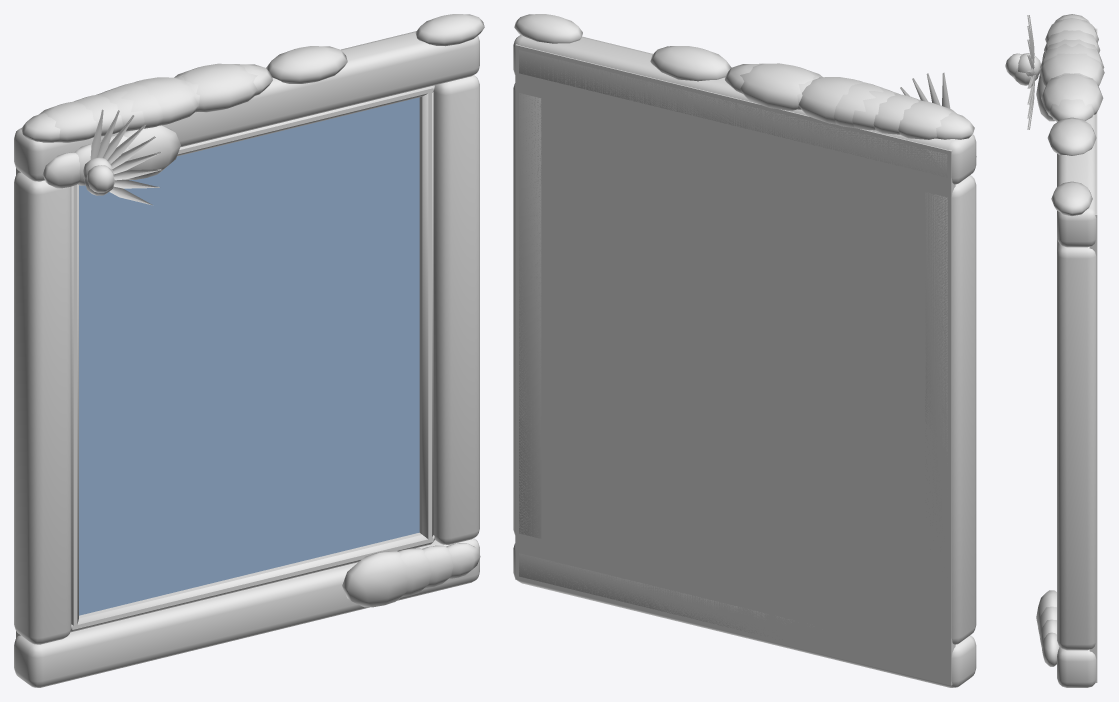
The model's file is frosted_frame.fbx.
3 views of the same model, side by side, from view 1: azimuth 30°, elevation 25°; view 2: azimuth 150°, elevation 25°; view 3: azimuth 270°, elevation 25° (orthographic). The views are drawn at different scales.
Parts seen in each view (by area): view 1: frosted_frame; view 2: frosted_frame; view 3: frosted_frame.
Boxes of the visible parts, bbox=[...] form: frosted_frame: bbox=[14, 14, 484, 687]; frosted_frame: bbox=[513, 14, 976, 687]; frosted_frame: bbox=[1005, 14, 1104, 687].
Size of the model in its own units: 3.67 by 4.44 by 0.7897.
